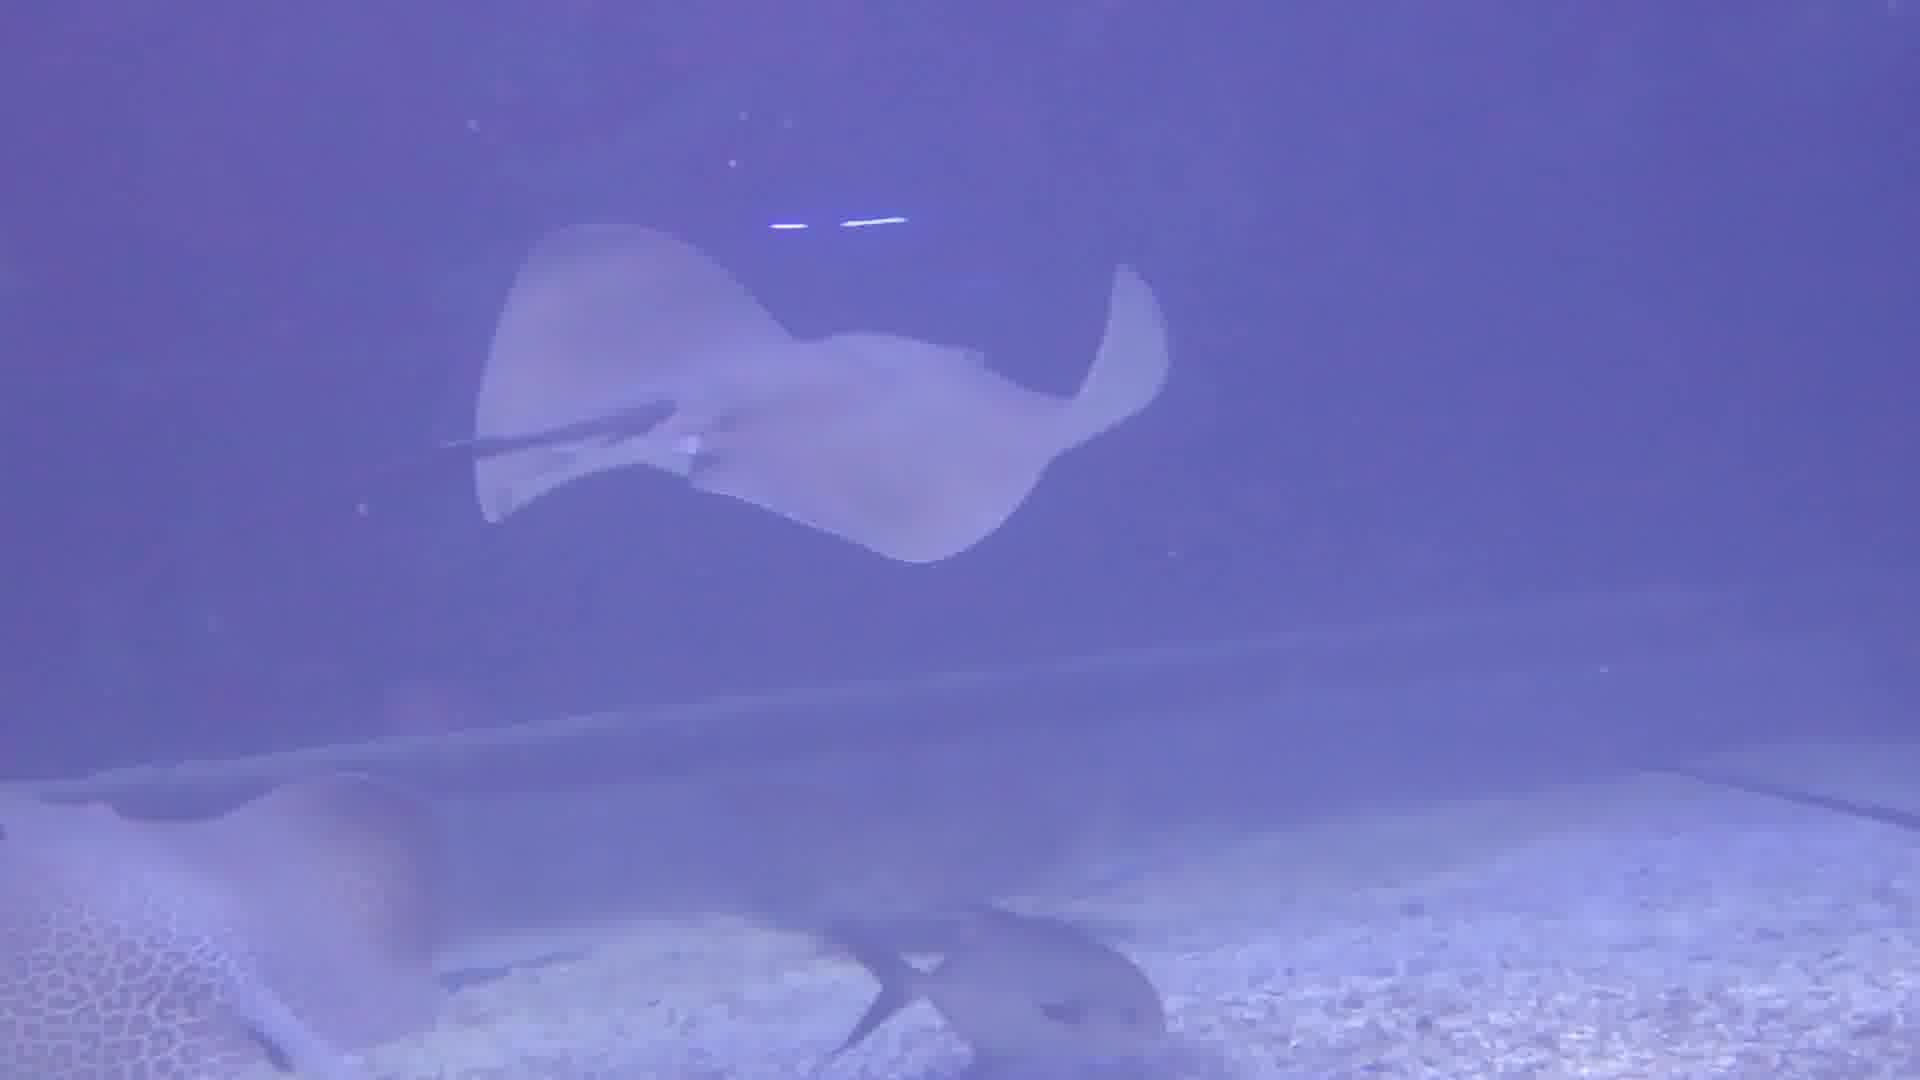Dasyatis akajei: (284, 171, 1294, 642)
